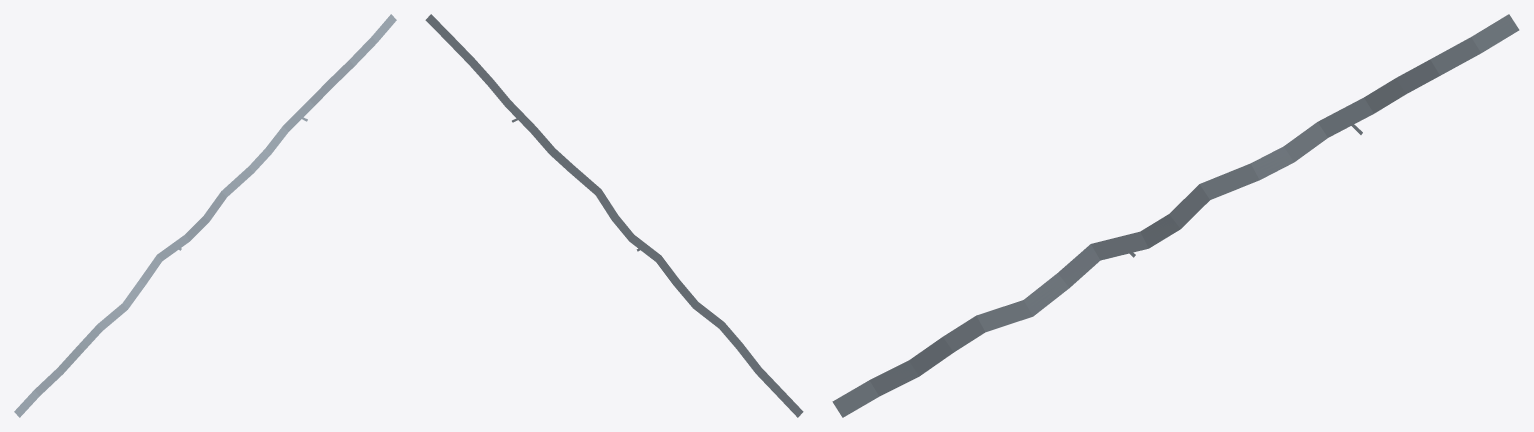
File: Fischl_OzAttack_DoubleShot_ElectricShot34.fbx
The picture shows the model from 3 angles, left to right: view 1: azimuth 30°, elevation 25°; view 2: azimuth 150°, elevation 25°; view 3: azimuth 330°, elevation 25°; orthographic projection. The views are drawn at different scales.
Parts seen in each view (by area): view 1: PART_ElectricShot34_VioletCorona, PART_ElectricShot34_SharpWhiteVioletCore; view 2: PART_ElectricShot34_VioletCorona, PART_ElectricShot34_SharpWhiteVioletCore; view 3: PART_ElectricShot34_VioletCorona, PART_ElectricShot34_SharpWhiteVioletCore.
Boxes of the visible parts, bbox=[...] form: PART_ElectricShot34_VioletCorona: bbox=[14, 14, 396, 417]; PART_ElectricShot34_SharpWhiteVioletCore: bbox=[16, 16, 394, 415]; PART_ElectricShot34_VioletCorona: bbox=[425, 14, 803, 417]; PART_ElectricShot34_SharpWhiteVioletCore: bbox=[427, 16, 800, 414]; PART_ElectricShot34_VioletCorona: bbox=[832, 14, 1519, 417]; PART_ElectricShot34_SharpWhiteVioletCore: bbox=[836, 19, 1515, 412].
Size of the model in its own units: 334 by 263 by 3.64.
